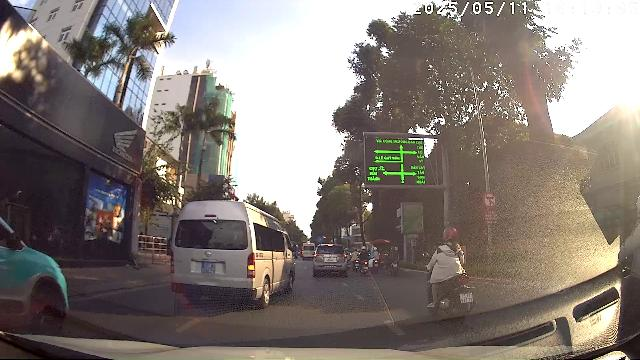137-cam-re-trai-va-re-phai: (482, 192, 496, 208)
